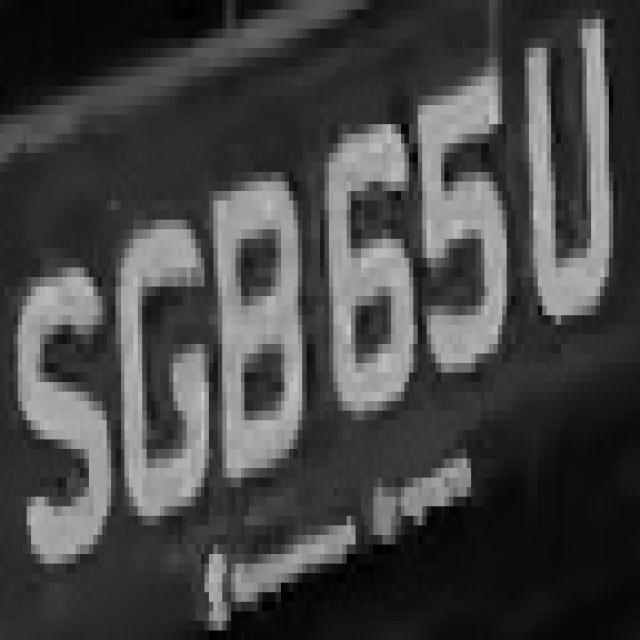5: (414, 29, 524, 382)
6: (316, 96, 426, 440)
B: (213, 162, 307, 497)
G: (111, 191, 231, 525)
S: (5, 191, 111, 611)
U: (516, 19, 622, 334)
